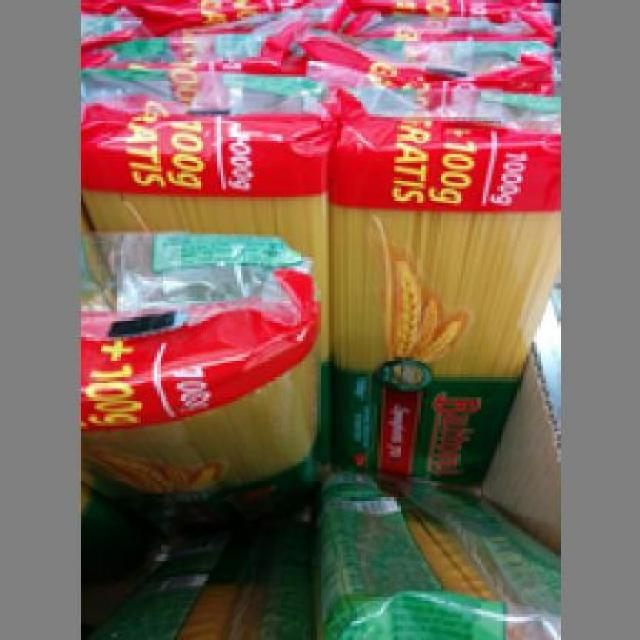Pasta: (326, 94, 557, 483), (80, 223, 317, 526), (306, 465, 560, 638)
